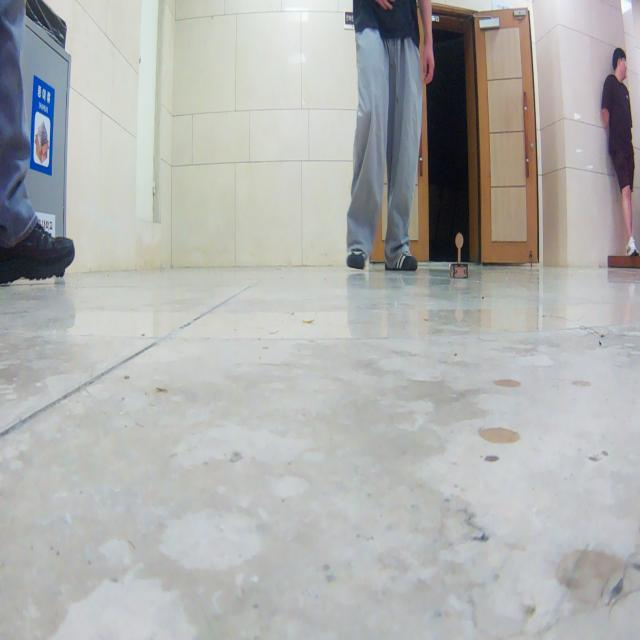target: (449, 232, 468, 280)
